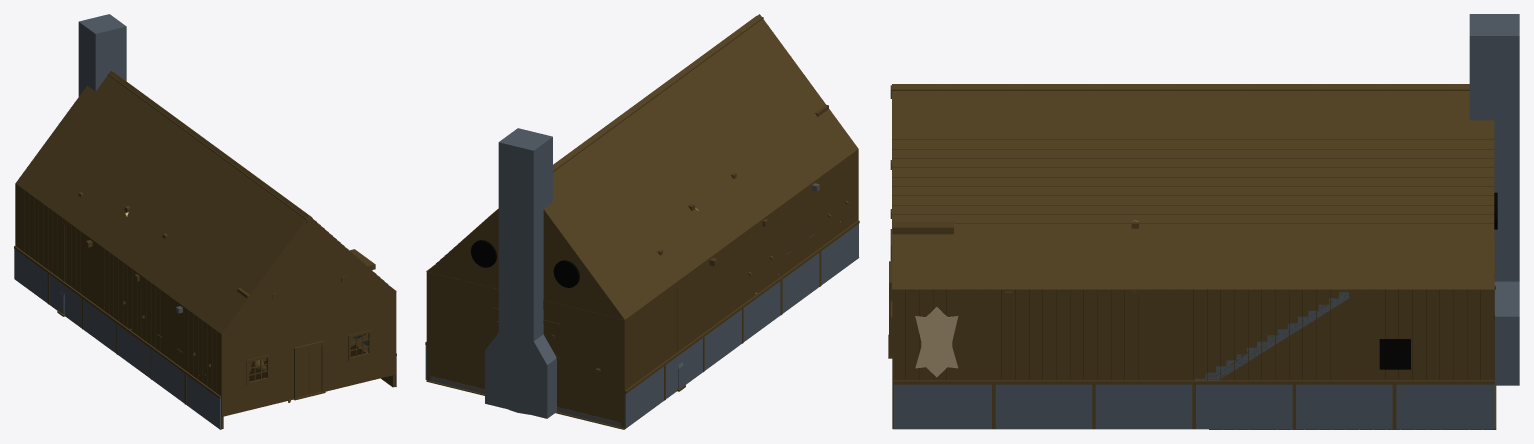
Rendered from Cabin_Blockout_03.fbx.
3 views of the same model, side by side, from view 1: azimuth 30°, elevation 25°; view 2: azimuth 150°, elevation 25°; view 3: azimuth 270°, elevation 25° (orthographic). The views are drawn at different scales.
Visible parts, largest first — view 1: polySurface595; view 2: polySurface595; view 3: polySurface595.
Boxes of the visible parts, bbox=[...] form: polySurface595: bbox=[14, 14, 396, 429]; polySurface595: bbox=[425, 14, 859, 429]; polySurface595: bbox=[888, 14, 1519, 429].
Size of the model in its own units: 889 by 1111 by 1844.
